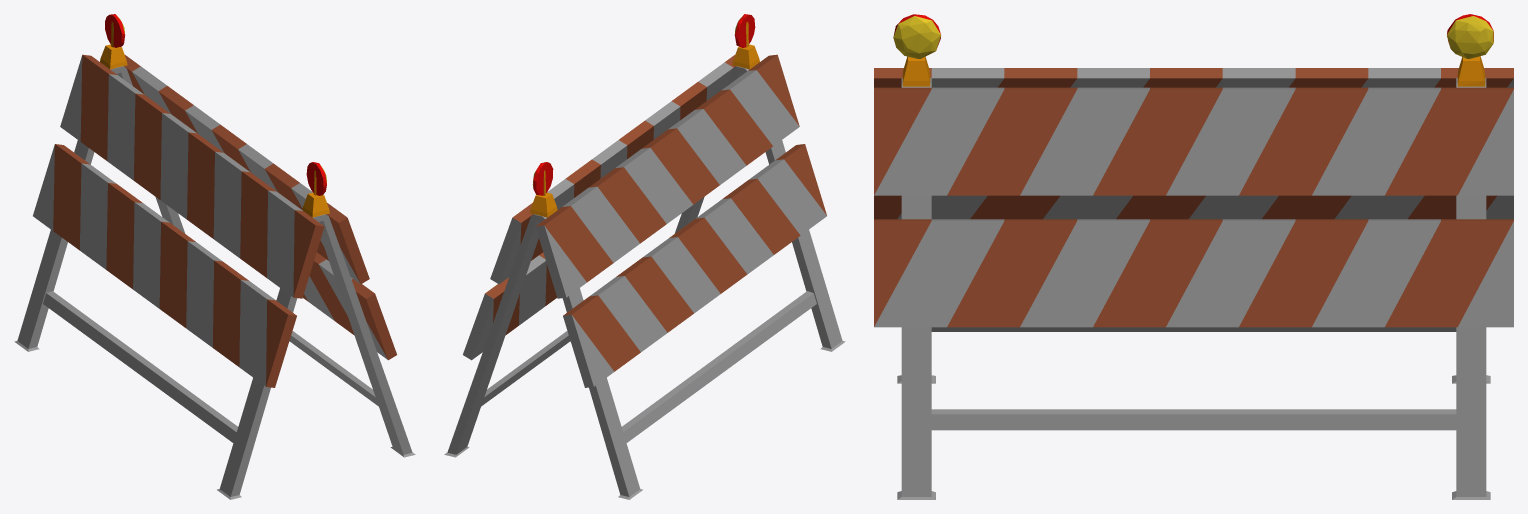
File: roadblocker.fbx
3 views of the same model, side by side, from view 1: azimuth 30°, elevation 25°; view 2: azimuth 150°, elevation 25°; view 3: azimuth 270°, elevation 25° (orthographic). The views are drawn at different scales.
Visible parts, largest first — view 1: RoadBlocker, RoadBlocker.7, RoadBlocker.3, RoadBlocker.5, RoadBlocker.9, RoadBlocker.8, RoadBlocker.2, RoadBlocker.4, RoadBlocker.6, RoadBlocker.1, RoadBlocker.010; view 2: RoadBlocker, RoadBlocker.7, RoadBlocker.3, RoadBlocker.5, RoadBlocker.9, RoadBlocker.6, RoadBlocker.4, RoadBlocker.8, RoadBlocker.1, RoadBlocker.010; view 3: RoadBlocker, RoadBlocker.6, RoadBlocker.2, RoadBlocker.4, RoadBlocker.9, RoadBlocker.7, RoadBlocker.3, RoadBlocker.5, RoadBlocker.8, RoadBlocker.010, RoadBlocker.1.
Part boxes in pixels (bbox=[...]): RoadBlocker: bbox=[33, 72, 195, 308]; RoadBlocker.7: bbox=[60, 54, 223, 219]; RoadBlocker.3: bbox=[160, 241, 296, 499]; RoadBlocker.5: bbox=[187, 152, 324, 298]; RoadBlocker.9: bbox=[14, 284, 378, 442]; RoadBlocker.8: bbox=[237, 220, 395, 439]; RoadBlocker.2: bbox=[303, 252, 415, 457]; RoadBlocker.4: bbox=[238, 144, 369, 284]; RoadBlocker.6: bbox=[115, 55, 246, 166]; RoadBlocker.1: bbox=[302, 162, 329, 217]; RoadBlocker.010: bbox=[100, 14, 127, 69]; RoadBlocker: bbox=[463, 217, 720, 439]; RoadBlocker.7: bbox=[535, 128, 693, 298]; RoadBlocker.3: bbox=[696, 144, 845, 351]; RoadBlocker.5: bbox=[668, 54, 799, 204]; RoadBlocker.9: bbox=[444, 291, 816, 499]; RoadBlocker.6: bbox=[490, 120, 653, 284]; RoadBlocker.4: bbox=[645, 55, 747, 145]; RoadBlocker.8: bbox=[675, 72, 825, 291]; RoadBlocker.1: bbox=[732, 14, 759, 69]; RoadBlocker.010: bbox=[530, 162, 557, 217]; RoadBlocker: bbox=[1150, 195, 1513, 412]; RoadBlocker.6: bbox=[1150, 78, 1513, 195]; RoadBlocker.2: bbox=[874, 219, 1165, 499]; RoadBlocker.4: bbox=[874, 78, 1165, 195]; RoadBlocker.9: bbox=[931, 327, 1490, 499]; RoadBlocker.7: bbox=[1150, 68, 1513, 87]; RoadBlocker.3: bbox=[874, 195, 1159, 383]; RoadBlocker.5: bbox=[874, 68, 1151, 87]; RoadBlocker.8: bbox=[901, 195, 931, 412]; RoadBlocker.010: bbox=[1447, 14, 1493, 86]; RoadBlocker.1: bbox=[893, 14, 941, 86].
Size of the model in its own units: 28.58 by 45.52 by 62.32.
